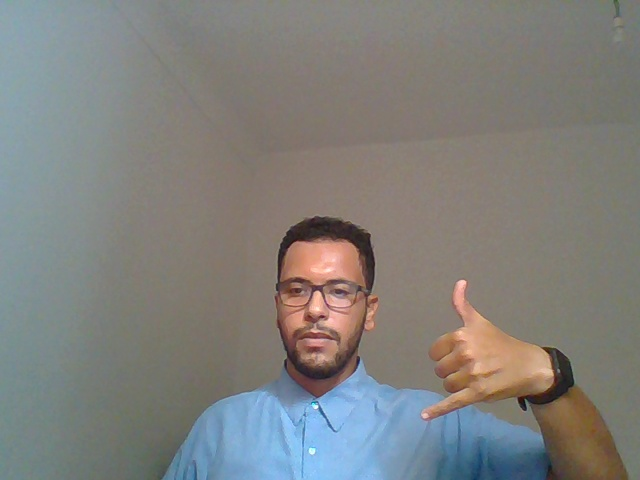callme: (386, 242, 586, 457)
